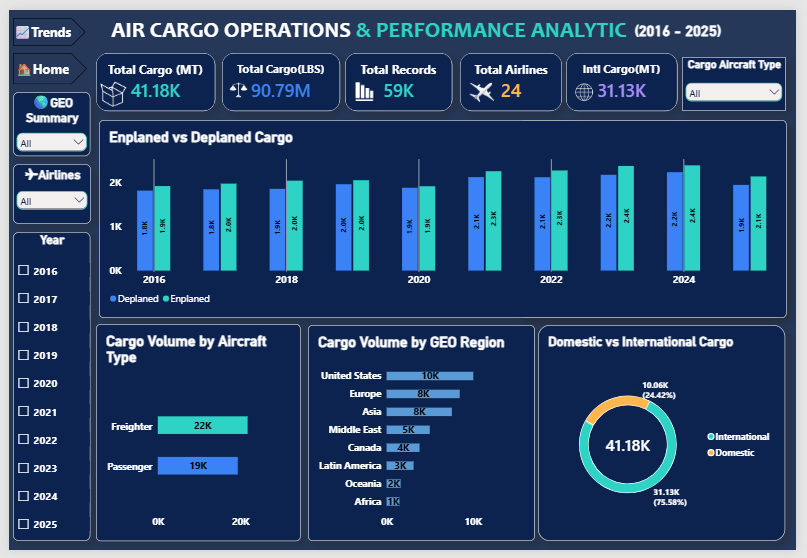

The page's visual inventory and layout, read from the dashboard file:
{"tool":"powerbi","page":{"name":"aircargo","canvas":[1312,900],"ordinal":0},"visuals":[{"type":"cardVisual","fields":{"Data":["air_cargo_analytics air_cargo_dataset.Total Cargo (Metric Tons)"]},"box":[145.6,72.2,198.9,96.7],"z":0},{"type":"cardVisual","fields":{"Data":["air_cargo_analytics air_cargo_dataset.Total Cargo (LBS)"]},"box":[354.4,72.2,196.7,96.7],"z":1000},{"type":"cardVisual","fields":{"Data":["air_cargo_analytics air_cargo_dataset.Total Airlines"]},"box":[751.1,72.2,170,96.7],"z":2000},{"type":"cardVisual","fields":{"Data":["air_cargo_analytics air_cargo_dataset.Total Records"]},"box":[560,72.2,178.9,96.7],"z":3000},{"type":"lineChart","title":"Monthly Cargo Trend","fields":{"Category":["Calendar.Year"],"Y":["air_cargo_analytics air_cargo_dataset.Total Cargo (Metric Tons)"]},"box":[147.5,185,688.3,330],"z":4000},{"type":"clusteredBarChart","title":"Top Operating Airlines","fields":{"Category":["air_cargo_analytics air_cargo_dataset.Operating Airline"],"Y":["air_cargo_analytics air_cargo_dataset.Total Cargo (Metric Tons)"]},"box":[846.7,525.6,448.9,362.2],"z":5000},{"type":"slicer","title":"Year","fields":{"Values":["Calendar.Year"]},"box":[6.7,369.3,128.7,515.3],"z":6000},{"type":"slicer","title":" ✈Airlines","fields":{"Values":["air_cargo_analytics air_cargo_dataset.Operating Airline"]},"box":[6.7,256.7,130,100],"z":12000},{"type":"slicer","title":"🌎GEO Summary","fields":{"Values":["air_cargo_analytics air_cargo_dataset.GEO Summary"]},"box":[6.7,136.7,128.9,106.7],"z":13000},{"type":"shape","box":[6.7,72,123.3,52.2],"z":14000},{"type":"shape","box":[6.7,13.3,121.1,46.7],"z":15000},{"type":"columnChart","title":"Cargo vs Mail by Year","fields":{"Category":["Calendar.Year"],"Series":["air_cargo_analytics air_cargo_dataset.Cargo Type Code"],"Y":["air_cargo_analytics air_cargo_dataset.Total Cargo (Metric Tons)"]},"box":[146.7,525.8,689.2,360.8],"z":16000},{"type":"textbox","box":[148,0,1060,92],"z":17000},{"type":"cardVisual","title":"International Cargo (MT)","fields":{"Data":["air_cargo_analytics air_cargo_dataset.International Cargo Volume (MT)"]},"box":[927.8,72.2,185.6,96.7],"z":18000},{"type":"slicer","title":"Cargo Aircraft Type","fields":{"Values":["air_cargo_analytics air_cargo_dataset.Cargo Aircraft Type"]},"box":[1122.2,78.9,173.3,90],"z":19000},{"type":"image","box":[749.2,87.5,76,98],"z":20000},{"type":"image","box":[569.2,109.2,46.2,55.4],"z":21000},{"type":"image","box":[937.3,112.7,44.5,48.2],"z":22000},{"type":"image","box":[150,110,48.2,59.1],"z":23000},{"type":"image","box":[360.9,110,40.9,50.9],"z":24000},{"type":"donutChart","title":"Domestic vs International Cargo","fields":{"Category":["air_cargo_analytics air_cargo_dataset.GEO Summary"],"Y":["air_cargo_analytics air_cargo_dataset.Total Cargo (Metric Tons)"]},"box":[846,190,448,326],"z":24001}]}

Visuals, with their boxes in screenshot pixels (x1, y1, x2, y2), scaled from the page's 1312x900 canvas onto the 807x558 screenshot:
cardVisual - air_cargo_analytics air_cargo_dataset.Total Cargo (Metric Tons): bbox=[90, 45, 212, 105]
cardVisual - air_cargo_analytics air_cargo_dataset.Total Cargo (LBS): bbox=[218, 45, 339, 105]
cardVisual - air_cargo_analytics air_cargo_dataset.Total Airlines: bbox=[462, 45, 567, 105]
cardVisual - air_cargo_analytics air_cargo_dataset.Total Records: bbox=[344, 45, 454, 105]
"Monthly Cargo Trend" lineChart: bbox=[91, 115, 514, 319]
"Top Operating Airlines" clusteredBarChart: bbox=[521, 326, 797, 550]
"Year" slicer: bbox=[4, 229, 83, 548]
" ✈Airlines" slicer: bbox=[4, 159, 84, 221]
"🌎GEO Summary" slicer: bbox=[4, 85, 83, 151]
shape: bbox=[4, 45, 80, 77]
shape: bbox=[4, 8, 79, 37]
"Cargo vs Mail by Year" columnChart: bbox=[90, 326, 514, 550]
textbox: bbox=[91, 0, 743, 57]
"International Cargo (MT)" cardVisual: bbox=[571, 45, 685, 105]
"Cargo Aircraft Type" slicer: bbox=[690, 49, 797, 105]
image: bbox=[461, 54, 508, 115]
image: bbox=[350, 68, 379, 102]
image: bbox=[577, 70, 604, 100]
image: bbox=[92, 68, 122, 105]
image: bbox=[222, 68, 247, 100]
"Domestic vs International Cargo" donutChart: bbox=[520, 118, 796, 320]
